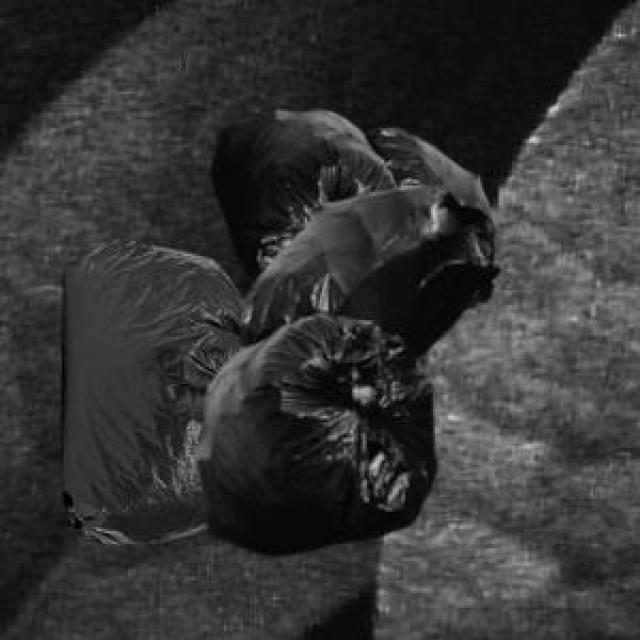miscellaneous trash: (192, 186, 489, 550), (207, 107, 499, 305), (58, 237, 241, 540)
